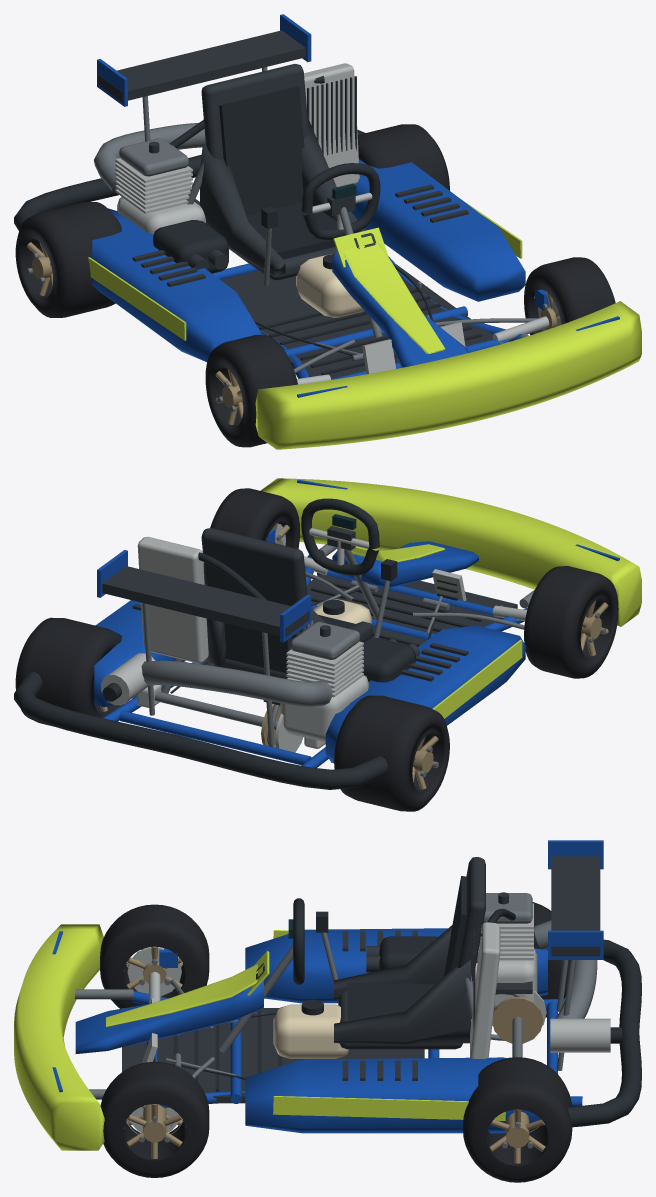
The model's file is oobi.glb.
3 renders of one model, top to bottom at view 1: azimuth 30°, elevation 25°; view 2: azimuth 150°, elevation 25°; view 3: azimuth 270°, elevation 25°, orthographic.
Visible parts, largest first — view 1: Livery ivory (×2), paint, Satin composite, Slick vulcanised rubber (×4), Seat fabric, Moulded bumper polymer (×2), Brushed alloy (×2), Steel fasteners, Fuel reservoir, Magnesium wheel centres (×2); view 2: Slick vulcanised rubber (×4), Satin composite (×2), Livery ivory (×2), paint, Moulded bumper polymer (×2), Brushed alloy (×3), Steel fasteners, Magnesium wheel centres (×2), Fuel reservoir; view 3: paint, Slick vulcanised rubber (×4), Satin composite, Livery ivory (×2), Moulded bumper polymer (×2), Brushed alloy (×2), Steel fasteners (×2), Magnesium wheel centres (×4), Seat fabric, Fuel reservoir.
Part boxes in pixels (x1=…): Livery ivory (×2): x1=88, y1=199, x2=641, y2=449; paint: x1=91, y1=14, x2=525, y2=379; Satin composite: x1=98, y1=30, x2=493, y2=378; Slick vulcanised rubber (×4): x1=15, y1=124, x2=615, y2=447; Seat fabric: x1=219, y1=86, x2=337, y2=259; Moulded bumper polymer (×2): x1=14, y1=76, x2=482, y2=375; Brushed alloy (×2): x1=115, y1=63, x2=549, y2=384; Steel fasteners: x1=94, y1=67, x2=538, y2=373; Fuel reservoir: x1=296, y1=254, x2=364, y2=317; Magnesium wheel centres (×2): x1=27, y1=242, x2=243, y2=424; Slick vulcanised rubber (×4): x1=15, y1=488, x2=618, y2=811; Satin composite (×2): x1=102, y1=526, x2=517, y2=705; Livery ivory (×2): x1=127, y1=478, x2=641, y2=718; paint: x1=94, y1=541, x2=527, y2=767; Moulded bumper polymer (×2): x1=14, y1=498, x2=482, y2=789; Brushed alloy (×3): x1=101, y1=528, x2=527, y2=752; Steel fasteners: x1=136, y1=549, x2=524, y2=747; Magnesium wheel centres (×2): x1=412, y1=601, x2=608, y2=789; Fuel reservoir: x1=313, y1=599, x2=371, y2=623; paint: x1=75, y1=840, x2=603, y2=1133; Slick vulcanised rubber (×4): x1=100, y1=902, x2=572, y2=1182; Satin composite: x1=122, y1=856, x2=600, y2=1103; Livery ivory (×2): x1=14, y1=924, x2=505, y2=1150; Moulded bumper polymer (×2): x1=173, y1=898, x2=641, y2=1127; Brushed alloy (×2): x1=127, y1=903, x2=610, y2=1058; Steel fasteners (×2): x1=75, y1=893, x2=597, y2=1127; Magnesium wheel centres (×4): x1=126, y1=946, x2=545, y2=1163; Seat fabric: x1=347, y1=876, x2=466, y2=1021; Fuel reservoir: x1=273, y1=1004, x2=349, y2=1058.
Size of the model in its own units: 2 by 1.01 by 2.7.
